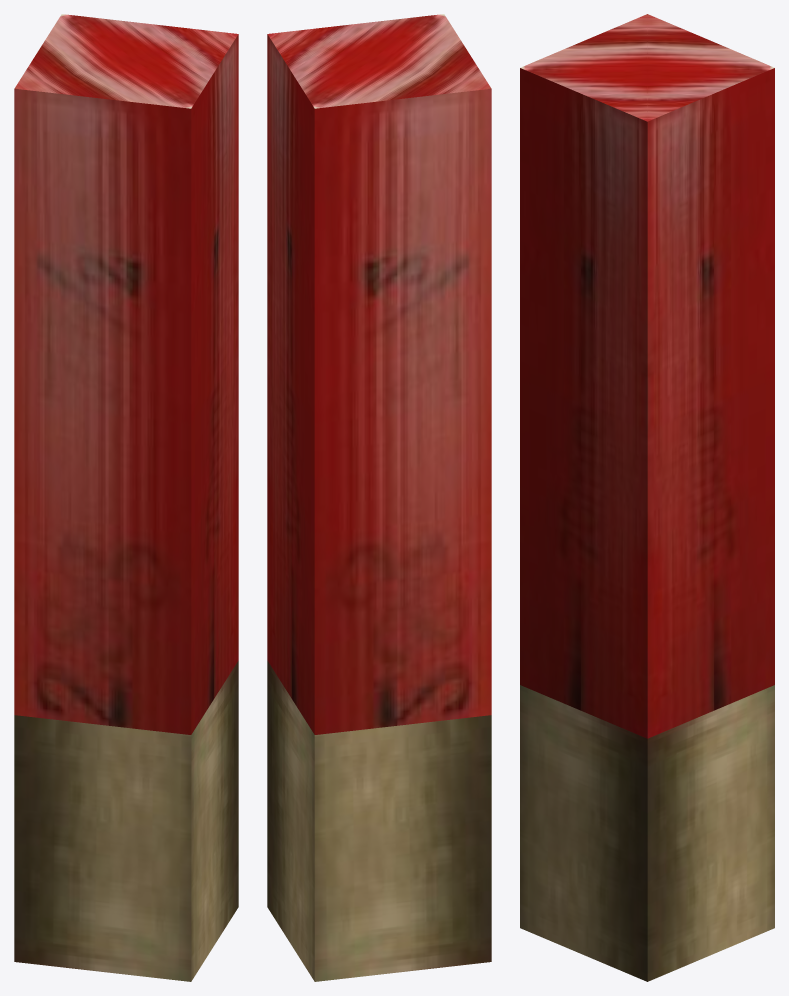
The model's file is shell.glb.
The picture shows the model from 3 angles, left to right: view 1: azimuth 30°, elevation 25°; view 2: azimuth 150°, elevation 25°; view 3: azimuth 270°, elevation 25°; orthographic projection.
Visible parts, largest first — view 1: ShellLowPolyRed.005; view 2: ShellLowPolyRed.005; view 3: ShellLowPolyRed.005.
Part boxes in pixels (bbox=[...]): ShellLowPolyRed.005: bbox=[14, 14, 238, 981]; ShellLowPolyRed.005: bbox=[267, 14, 491, 981]; ShellLowPolyRed.005: bbox=[520, 14, 774, 981].
Bounding box in the file's own units: 0.0283 × 0.1054 × 0.0283.
1 material, 1 textured.
